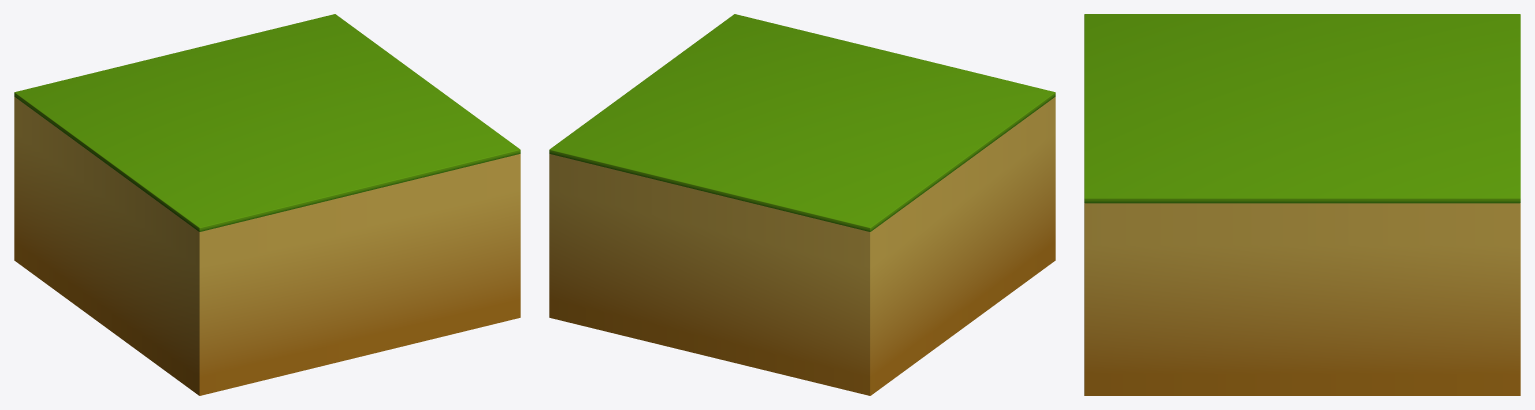
3 renders of one model, left to right at view 1: azimuth 30°, elevation 25°; view 2: azimuth 150°, elevation 25°; view 3: azimuth 270°, elevation 25°, orthographic. The views are drawn at different scales.
Parts seen in each view (by area): view 1: LOD0; view 2: LOD0; view 3: LOD0.
Part boxes in pixels (box(x1,y1,x2,y2)): LOD0: box(14, 14, 520, 395); LOD0: box(549, 14, 1055, 395); LOD0: box(1084, 14, 1520, 395).
Size of what is drawn, in the model's own units: 10000 by 10000 by 5000.
